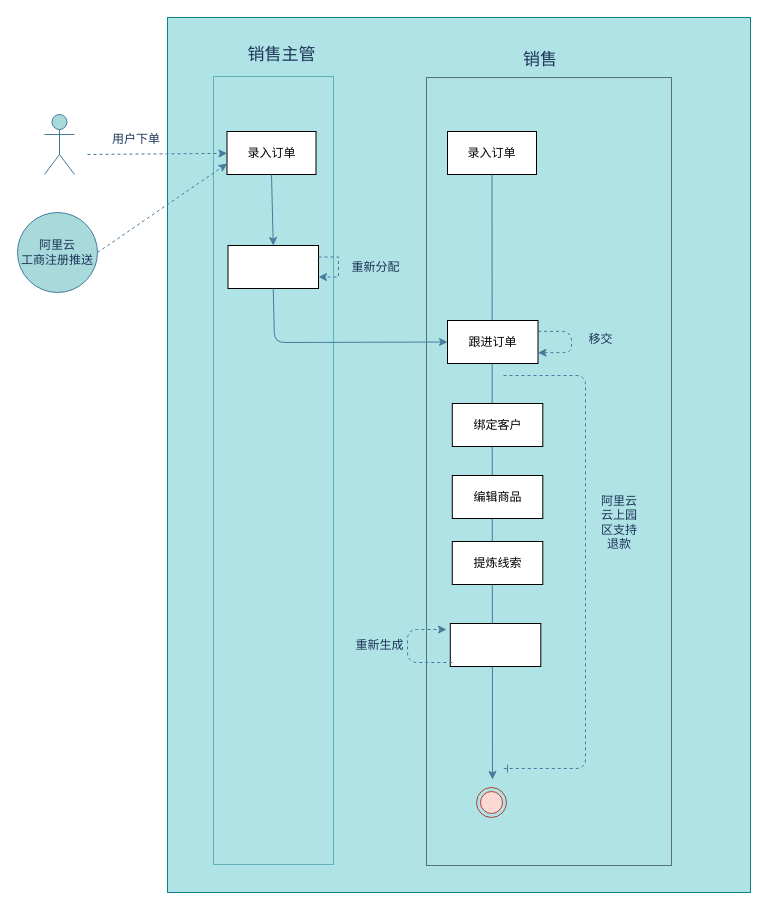
Some shapes in this 768 by 910 pixel diagram are drawn without their labels. Here are the shapes that lost their labels. From the top down, the box of each, then its label:
(44, 114, 74, 174): Actor
(227, 244, 318, 288): 分配订单
(449, 622, 541, 666): 创建合同
